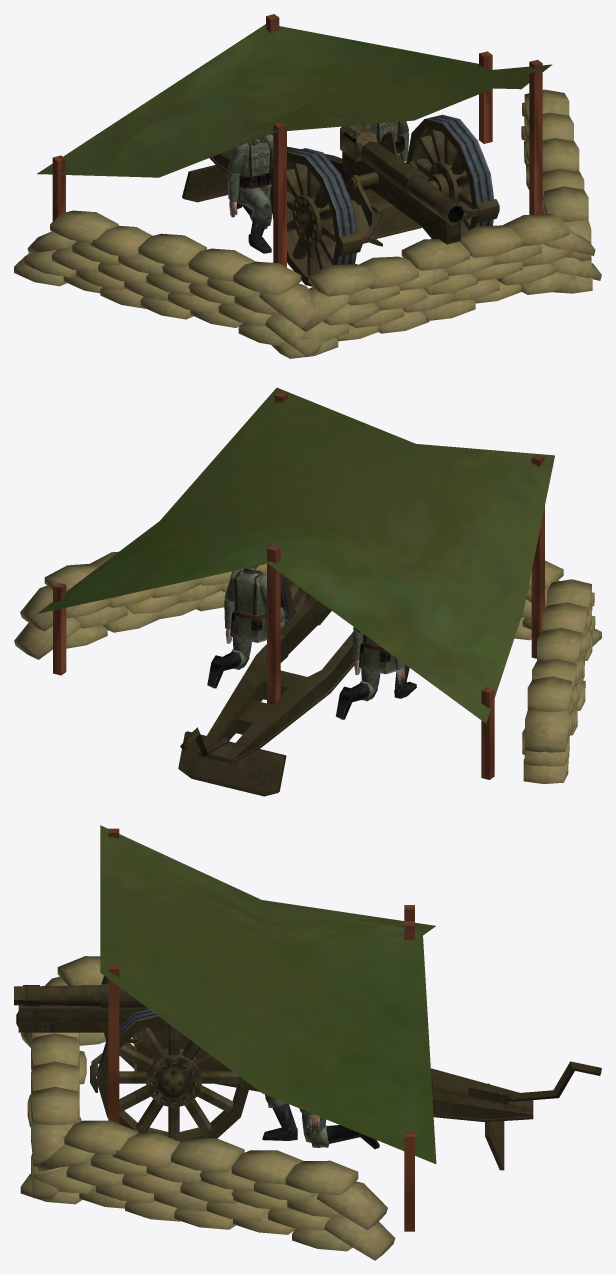
File: SWEHaubitsM06_Stationary.dae
3 renders of one model, top to bottom at view 1: azimuth 30°, elevation 25°; view 2: azimuth 150°, elevation 25°; view 3: azimuth 270°, elevation 25°, orthographic. The views are drawn at different scales.
Parts seen in each view (by area): view 1: base, wheels, carriage, barrel, sleeve, torso1, torso2, rthigh1, rleg1, rloarm1; view 2: base, carriage, torso2, torso1, wheels; view 3: base, wheels, carriage, sleeve, barrel, lleg2, rleg2.
Boxes of the visible parts, x1,y1,x2,y2 form: base: (14,14,601,358); wheels: (270,114,493,286); carriage: (182,146,499,256); barrel: (340,125,463,222); sleeve: (342,131,460,244); torso1: (237,136,273,206); torso2: (372,121,404,159); rthigh1: (241,186,271,210); rleg1: (250,202,271,237); rloarm1: (227,169,240,217); base: (14,387,601,783); carriage: (178,596,354,796); torso2: (230,568,266,642); torso1: (359,633,396,674); wheels: (280,573,329,625); base: (20,825,436,1260); wheels: (97,976,250,1141); carriage: (90,1023,601,1170); sleeve: (16,1005,164,1032); barrel: (14,984,146,1007); lleg2: (311,1125,359,1147); rleg2: (265,1094,296,1133).
Size of the model in its own units: 51.33 by 43.75 by 20.6.
